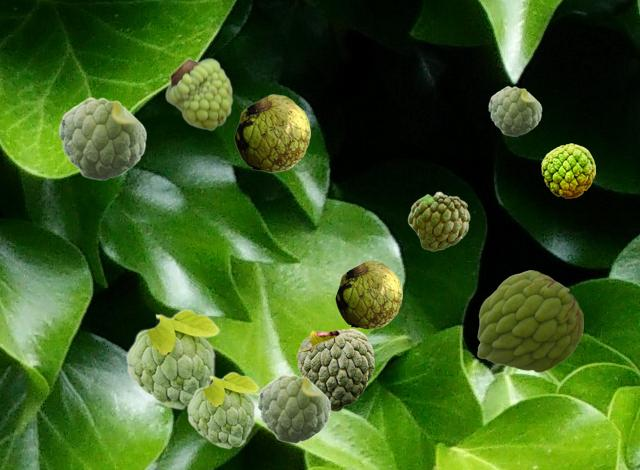atis: (477, 270, 582, 371), (125, 308, 219, 409), (58, 97, 146, 179), (296, 328, 373, 410), (234, 94, 309, 171), (186, 371, 258, 448), (257, 374, 330, 442), (165, 57, 232, 130), (335, 260, 401, 328), (407, 191, 469, 250), (541, 143, 594, 197), (488, 86, 541, 135)
